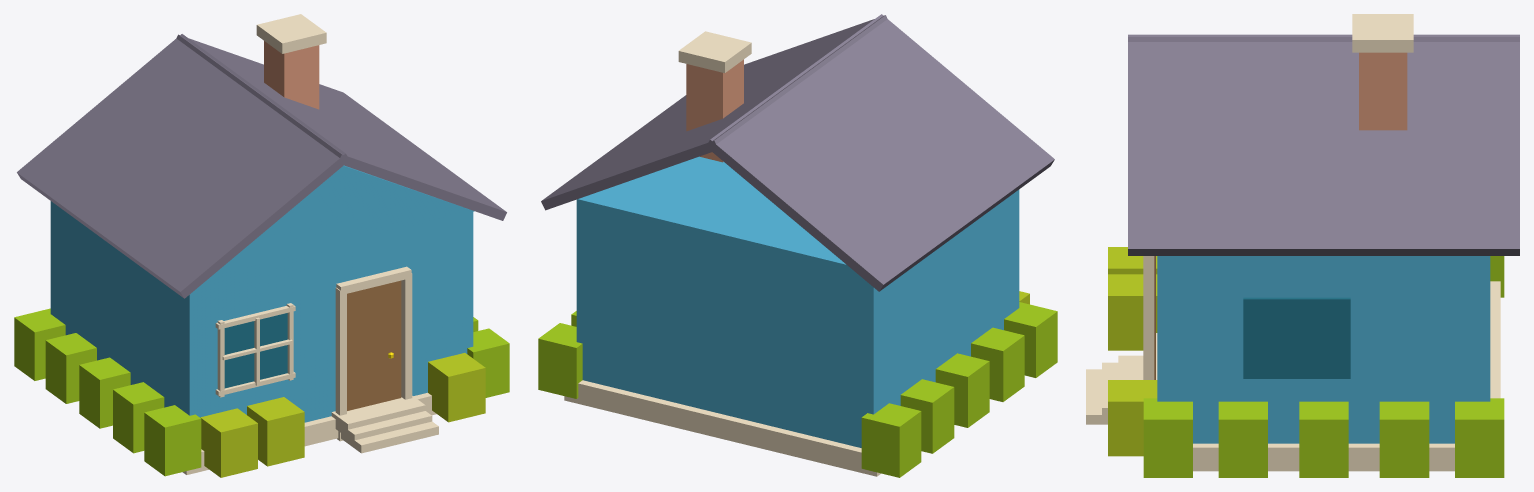
Rendered from House_Blue.glb.
3 renders of one model, left to right at view 1: azimuth 30°, elevation 25°; view 2: azimuth 150°, elevation 25°; view 3: azimuth 270°, elevation 25°, orthographic. The views are drawn at different scales.
Parts seen in each view (by area): view 1: House_Blue; view 2: House_Blue; view 3: House_Blue.
Part boxes in pixels (left/top/right/bottom): House_Blue: left=14, top=14, right=509, bottom=477; House_Blue: left=538, top=14, right=1057, bottom=477; House_Blue: left=1086, top=14, right=1519, bottom=477.
Size of the model in its own units: 4.44 by 4.02 by 4.04.
